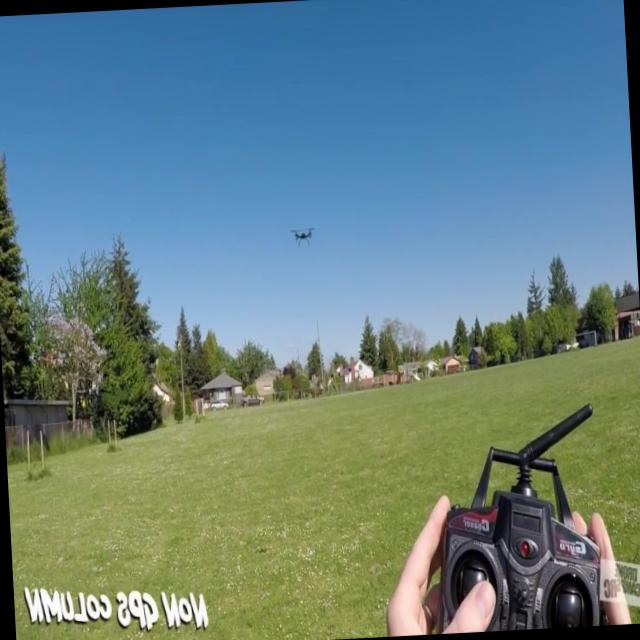drone: (288, 225, 316, 248)
